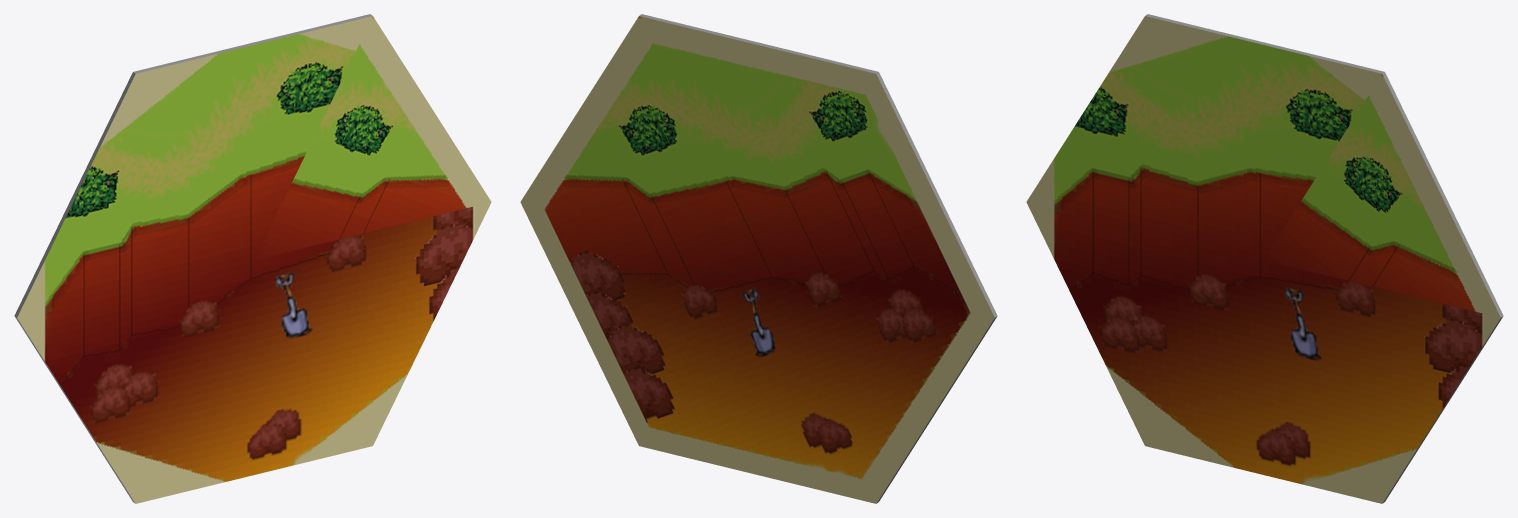
File: Brick_Map.FBX
3 renders of one model, left to right at view 1: azimuth 30°, elevation 25°; view 2: azimuth 150°, elevation 25°; view 3: azimuth 330°, elevation 25°, orthographic.
Parts seen in each view (by area): view 1: Gengon001; view 2: Gengon001; view 3: Gengon001.
Boxes of the visible parts, x1,y1,x2,y2 form: Gengon001: [14, 14, 491, 503]; Gengon001: [520, 14, 997, 503]; Gengon001: [1026, 14, 1503, 503].
Size of the model in its own units: 20 by 0.2 by 17.32.
Materials: 2 (1 with a texture image).
